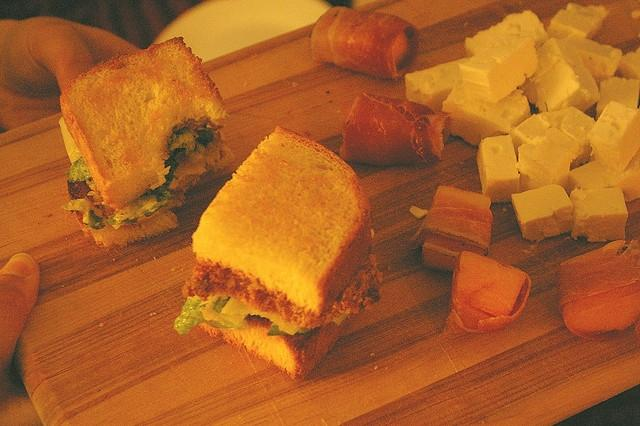lettuce: (169, 126, 197, 154), (66, 158, 91, 182), (198, 296, 220, 322)
